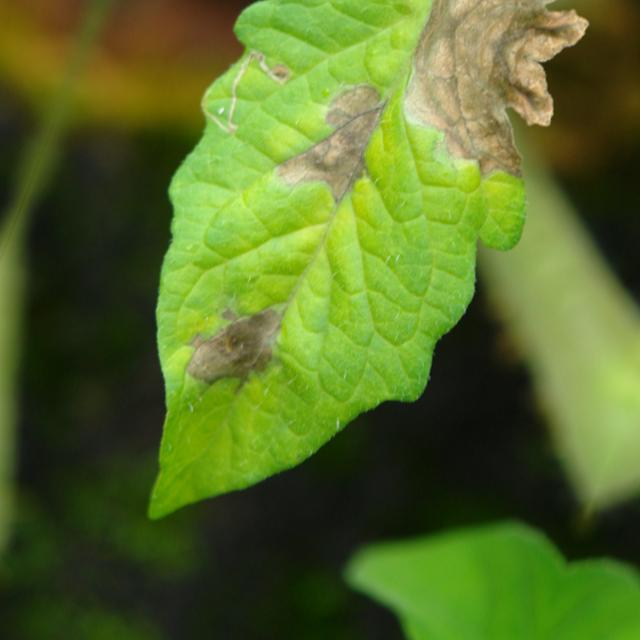Tomato leaf late blight: (33, 0, 588, 626)
